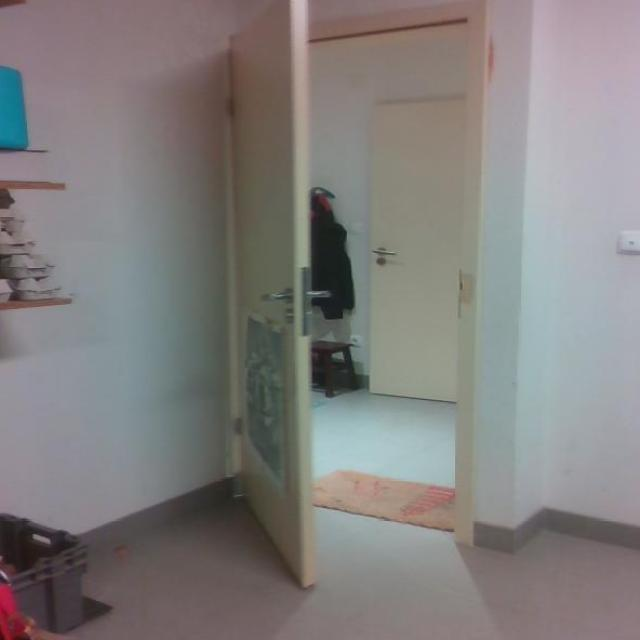door: (211, 3, 332, 604), (367, 96, 463, 402)
